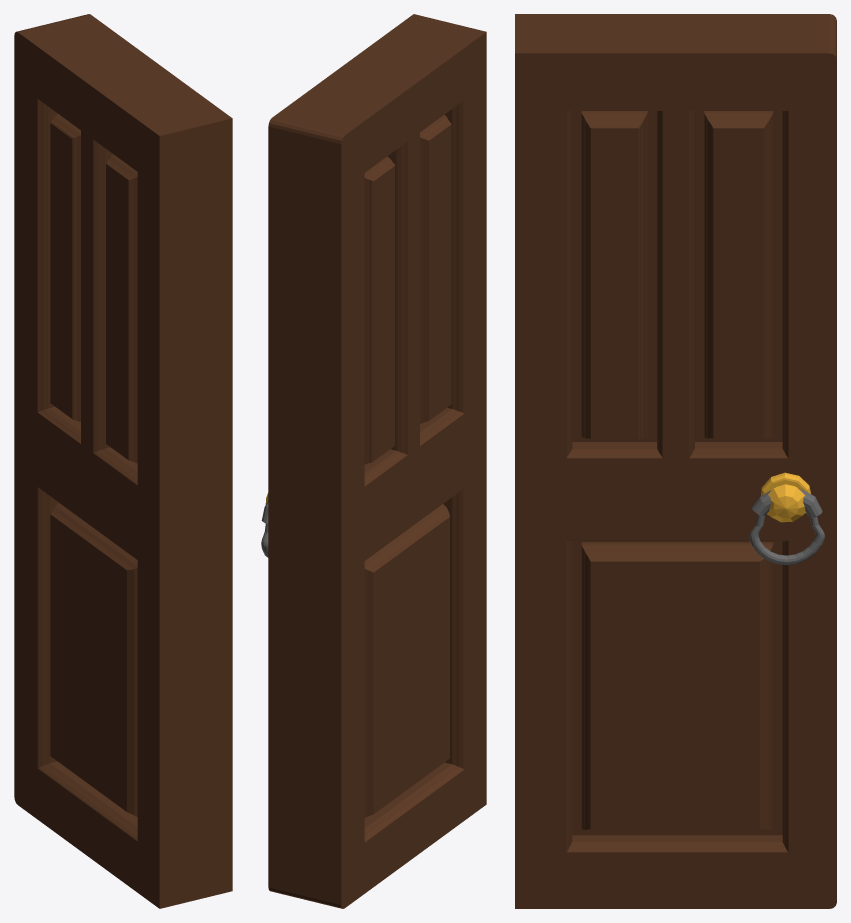
File: Arch_Door_1_single.fbx
3 views of the same model, side by side, from view 1: azimuth 30°, elevation 25°; view 2: azimuth 150°, elevation 25°; view 3: azimuth 270°, elevation 25° (orthographic). The views are drawn at different scales.
Visible parts, largest first — view 1: Arch_DblDoor_L; view 2: Arch_DblDoor_L; view 3: Arch_DblDoor_L, HandleRing, HandleKnob.
Part boxes in pixels (x1,y1,x2,y2): Arch_DblDoor_L: (14,14,232,908); Arch_DblDoor_L: (268,14,486,908); Arch_DblDoor_L: (515,14,836,908); HandleRing: (749,489,824,565); HandleKnob: (761,472,810,522).
Bounding box in the file's own units: 28.26 × 219 × 74.82.
